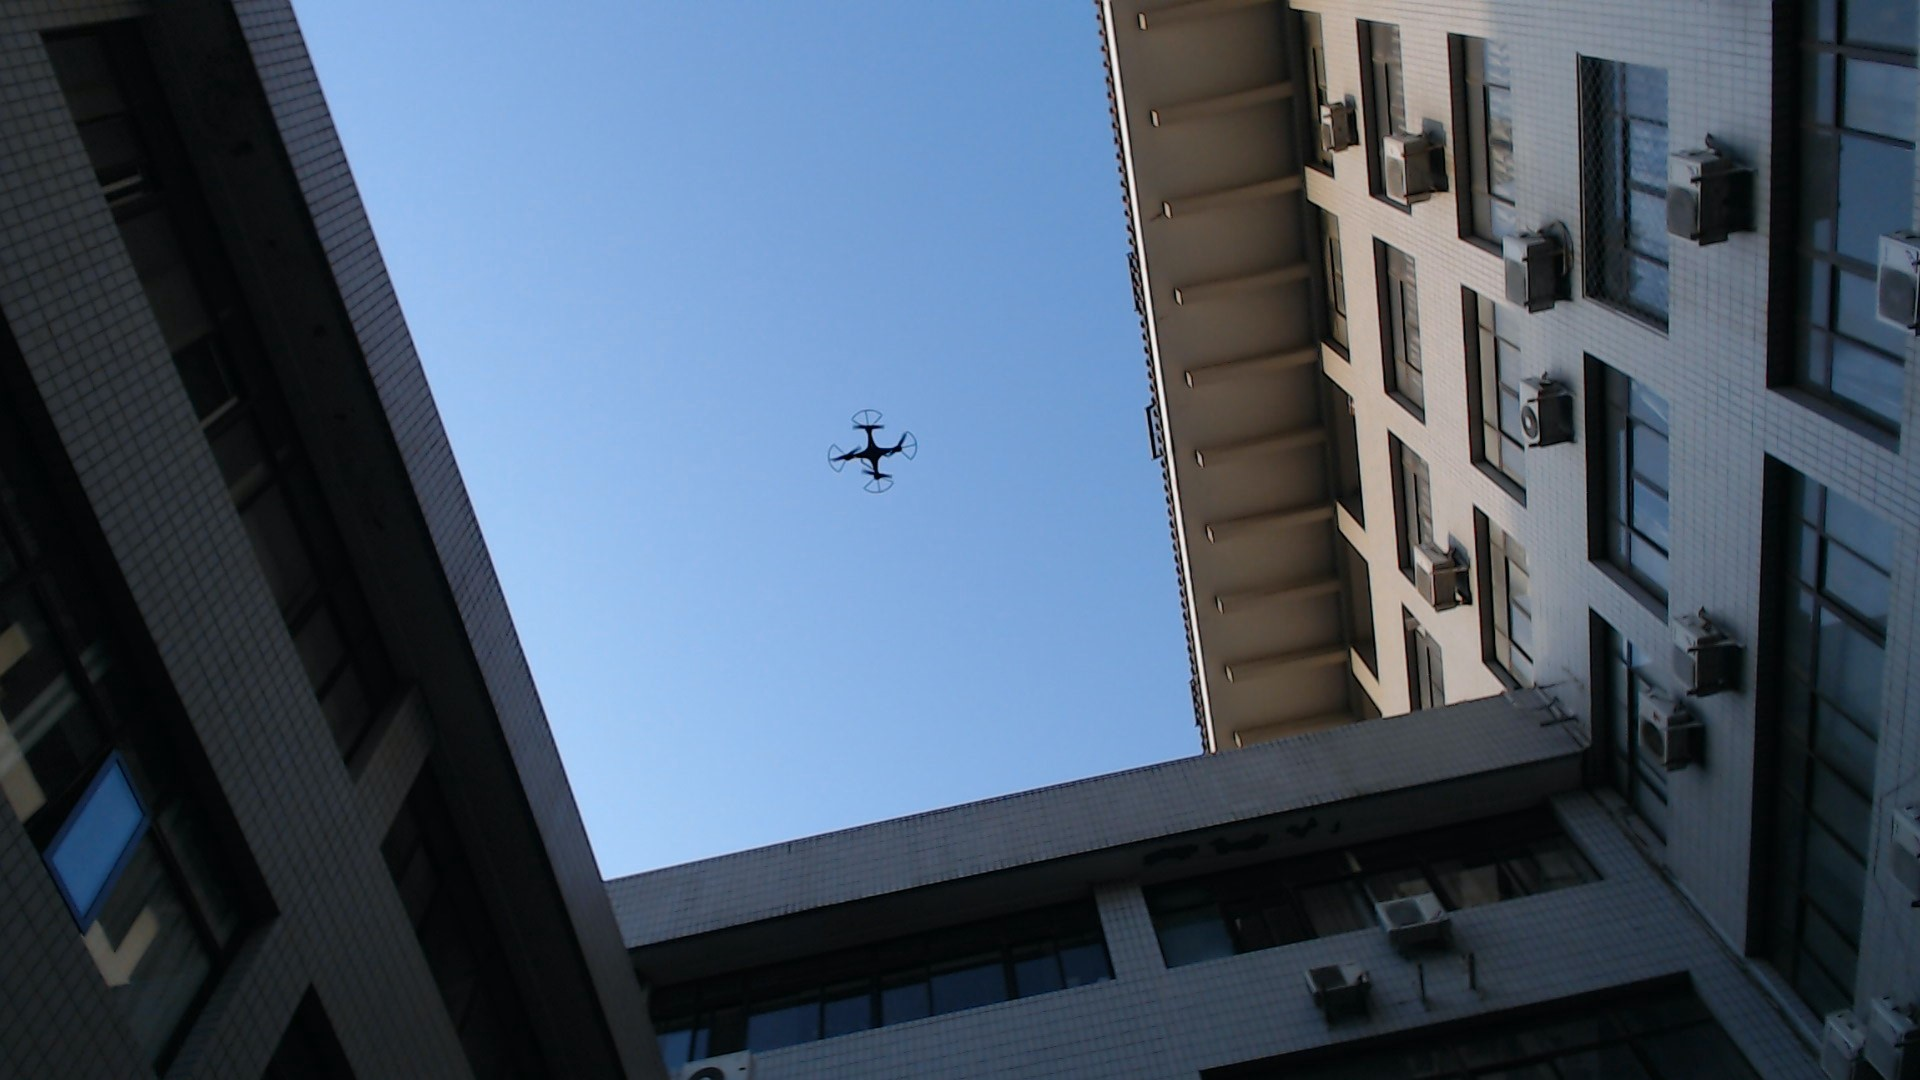drone: (811, 397, 934, 502)
